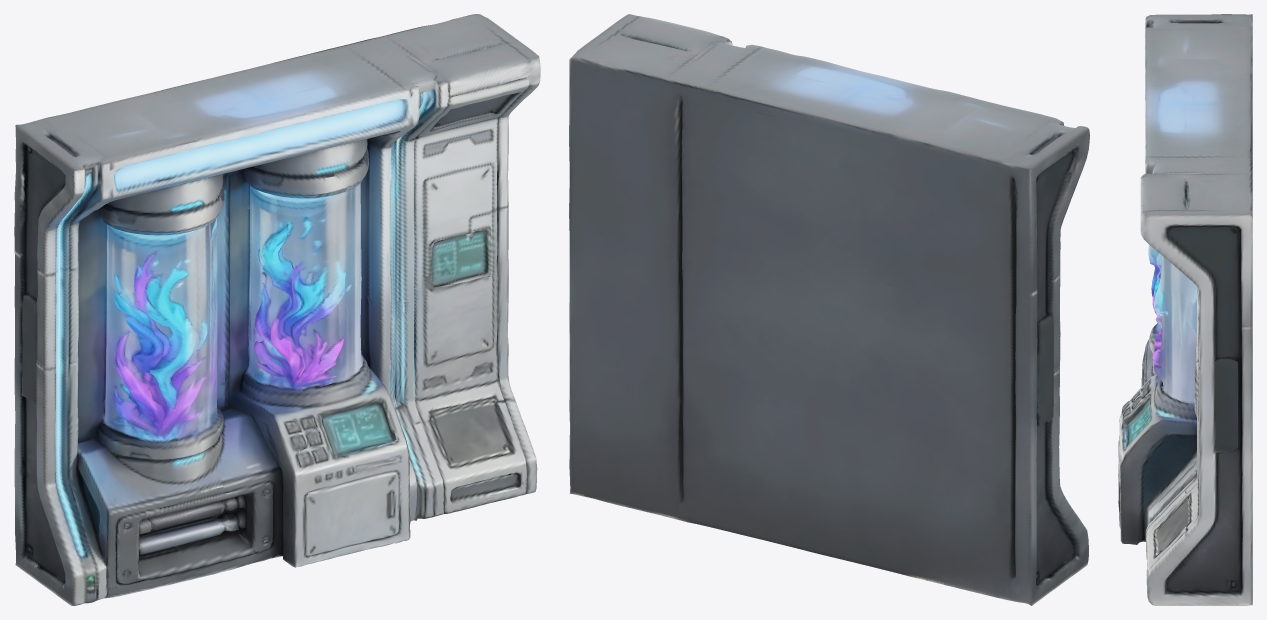
The model's file is bio_glass_wall.fbx.
3 views of the same model, side by side, from view 1: azimuth 30°, elevation 25°; view 2: azimuth 150°, elevation 25°; view 3: azimuth 270°, elevation 25° (orthographic). The views are drawn at different scales.
Visible parts, largest first — view 1: model; view 2: model; view 3: model.
Part boxes in pixels (x1,y1,x2,y2): model: (14, 14, 540, 605); model: (569, 14, 1089, 605); model: (1118, 14, 1252, 605).
Size of the model in its own units: 189 by 170 by 52.92.
